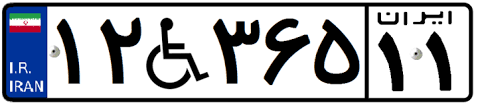character: (144, 13, 210, 88), (210, 9, 263, 92), (311, 12, 363, 93), (263, 8, 311, 91), (95, 13, 144, 91), (51, 11, 88, 91), (373, 26, 413, 99), (420, 29, 453, 98)
